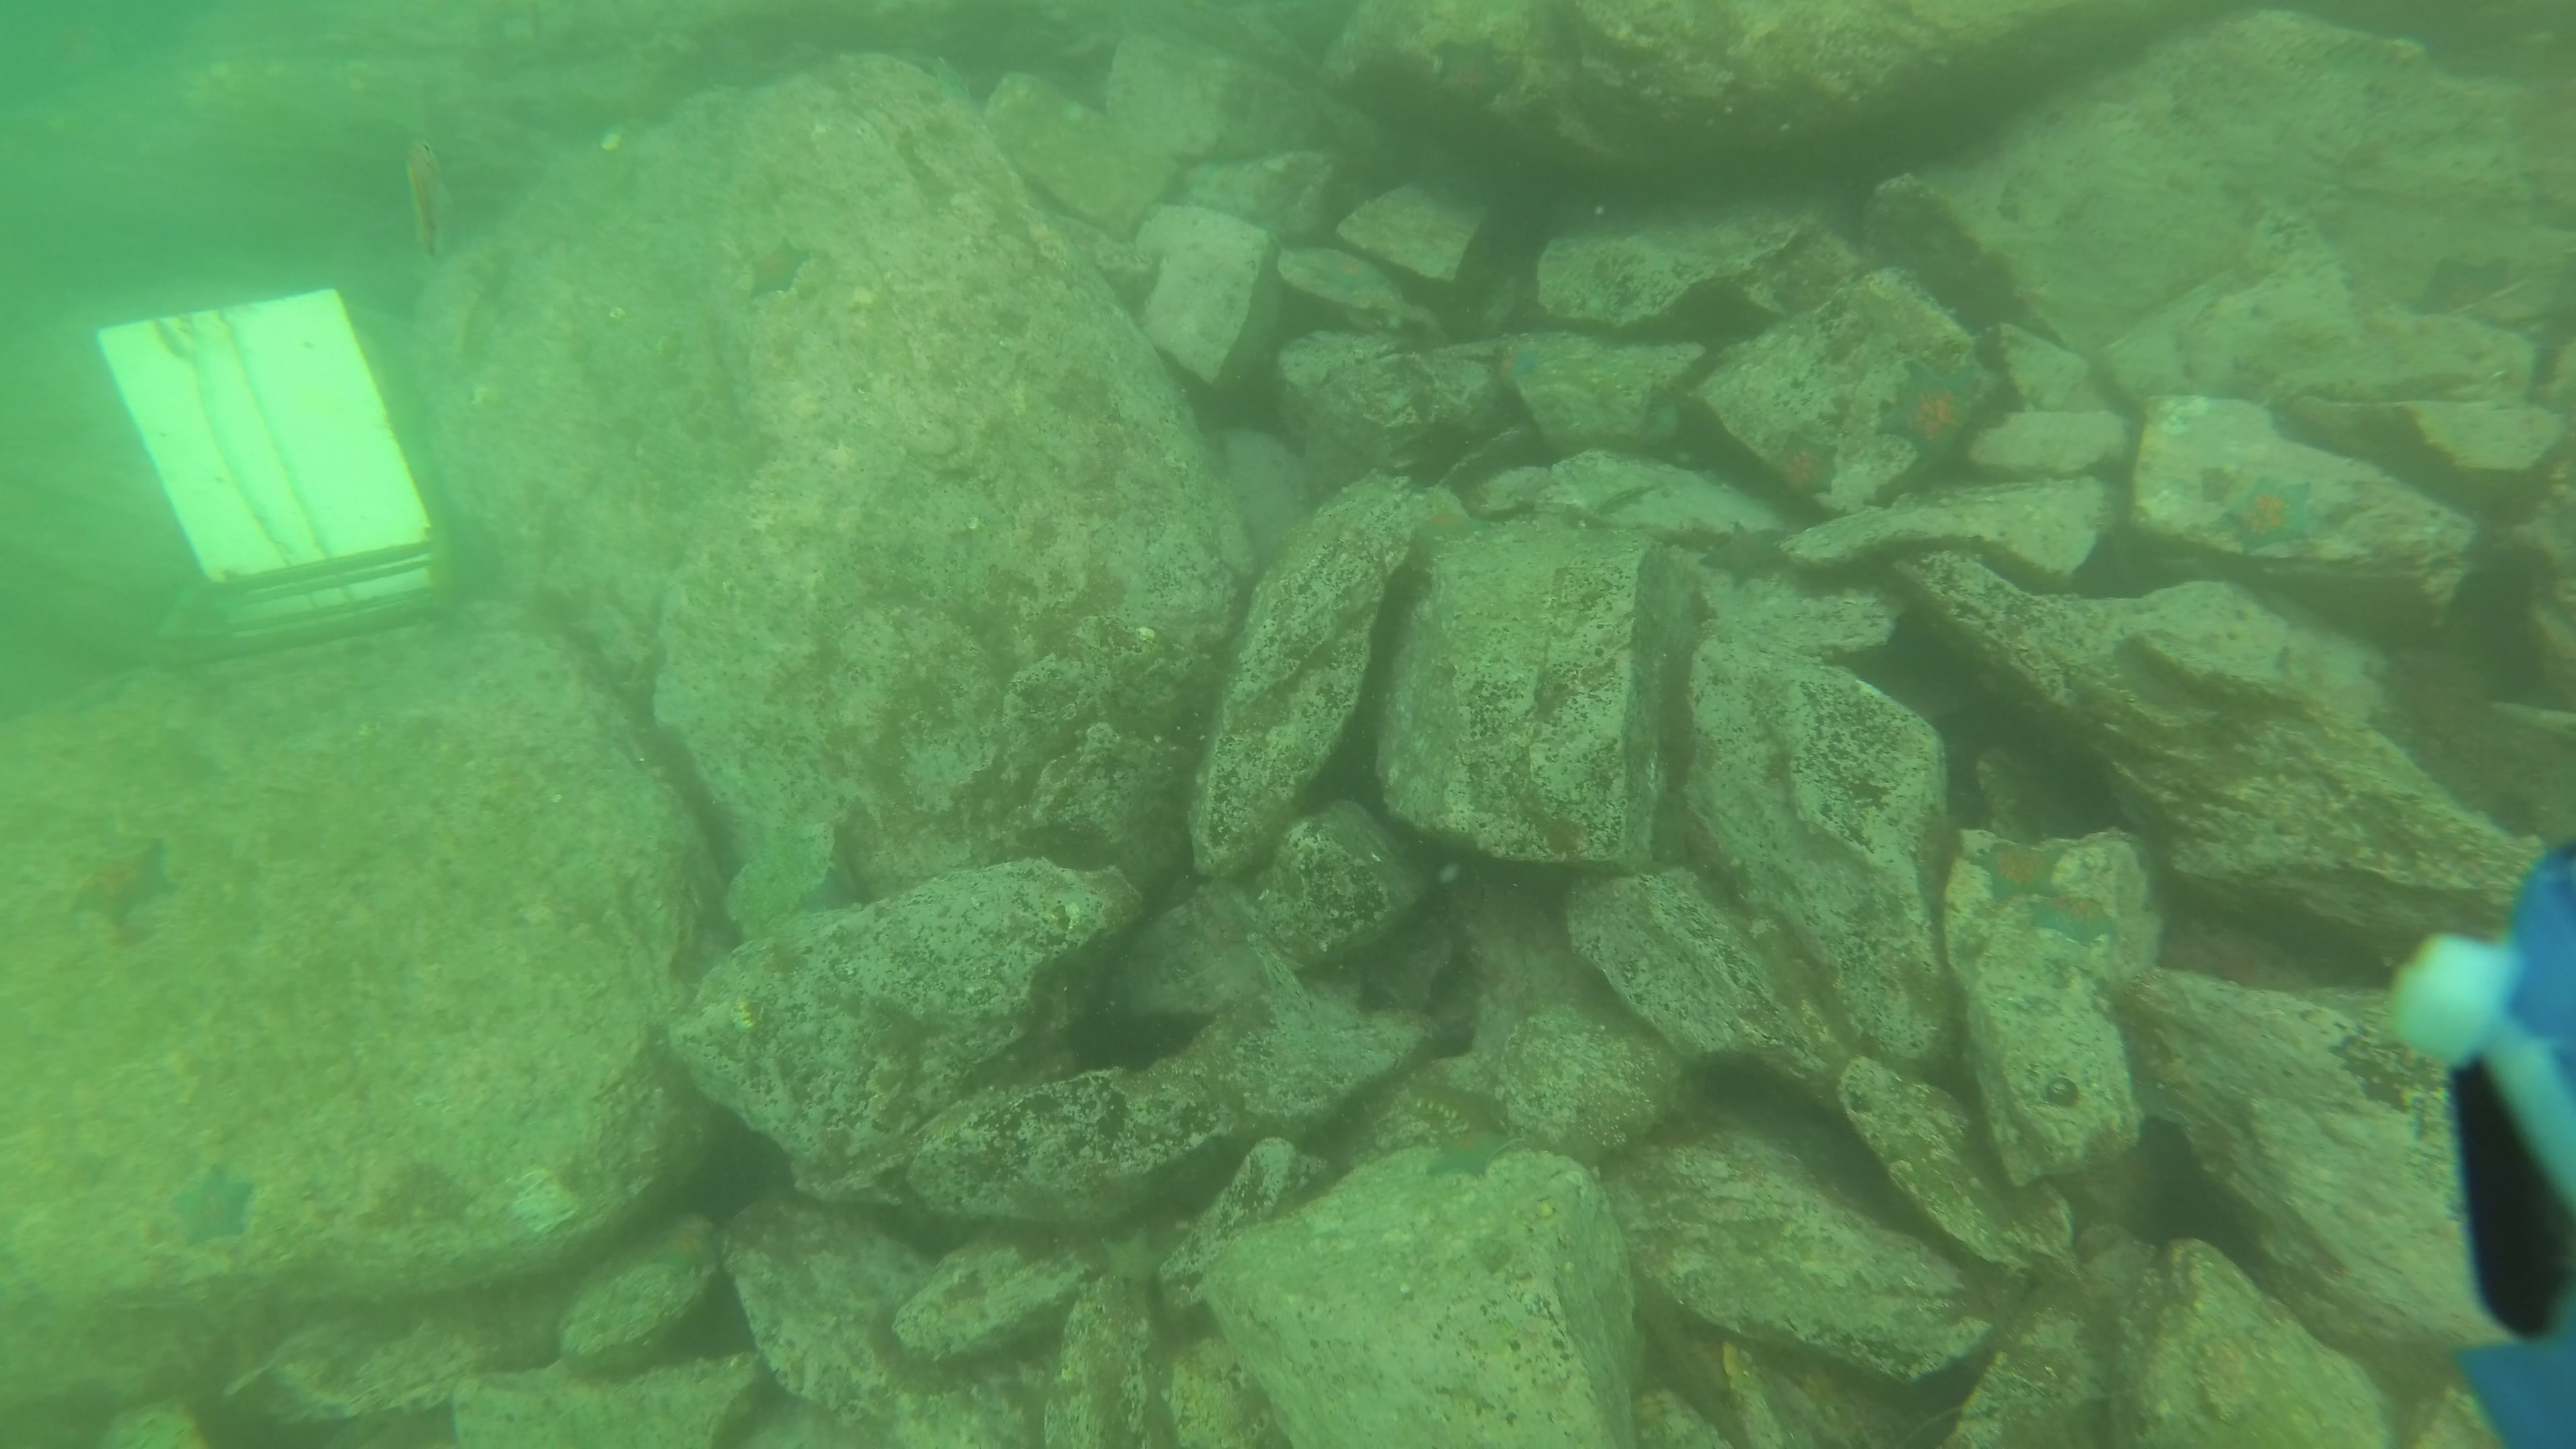starfish: (1870, 357, 1987, 472), (58, 832, 179, 931), (2215, 465, 2332, 563), (161, 1161, 260, 1251), (1691, 511, 1798, 594), (1966, 833, 2070, 908), (1755, 423, 1845, 506), (2410, 253, 2518, 317), (1424, 1118, 1520, 1184), (644, 1214, 729, 1279), (2031, 888, 2121, 947), (745, 230, 817, 299), (1490, 338, 1545, 395)
